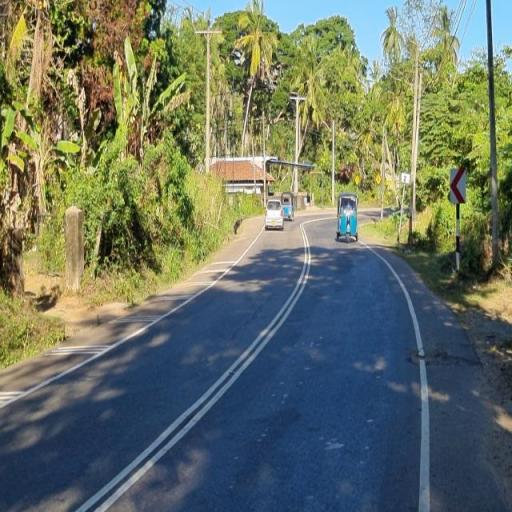double_white_line: (75, 218, 315, 512)
